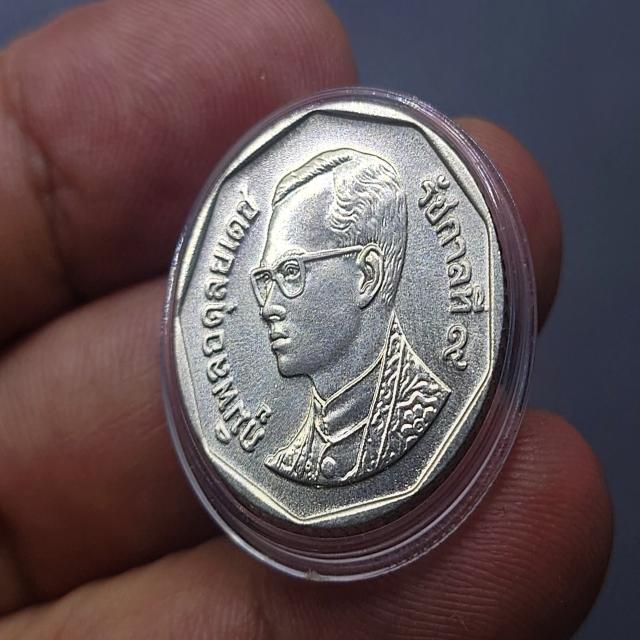5 Bath: (168, 93, 513, 543)
